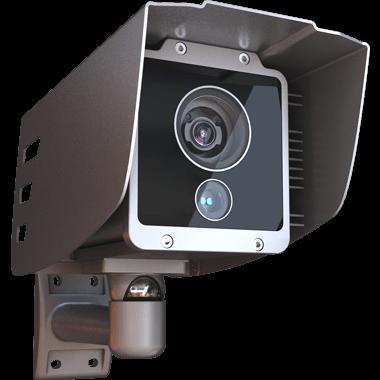Monitor: (10, 0, 370, 279)
